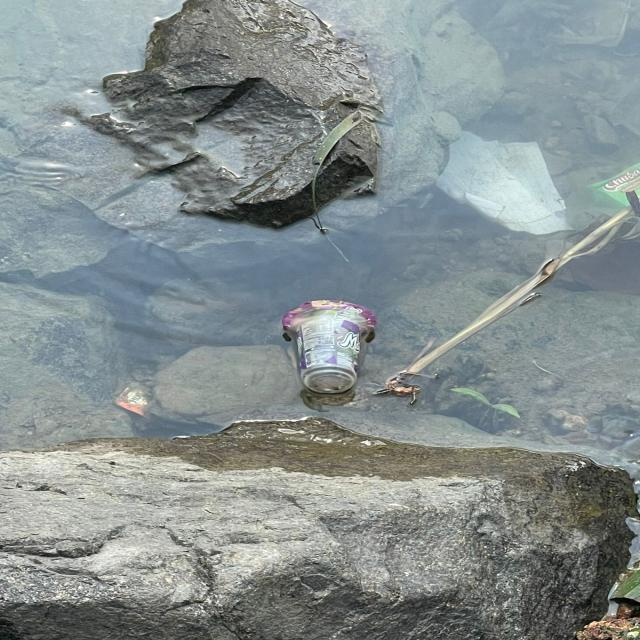Bungkus Minuman: (255, 288, 395, 402)
